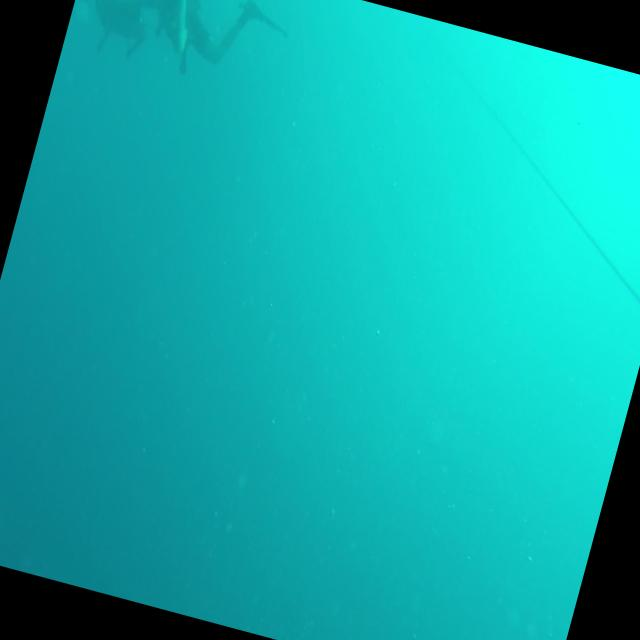human: (123, 0, 300, 105)
